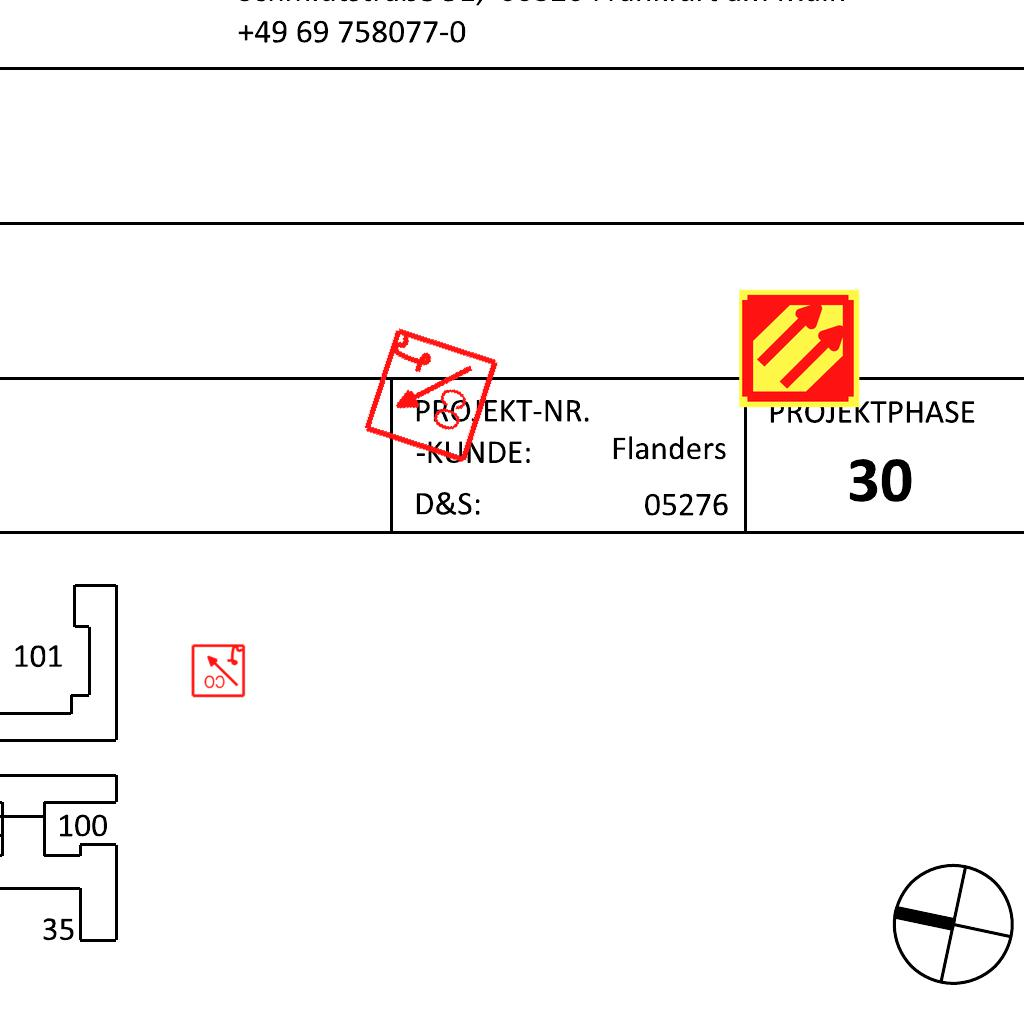ASR_Ansaugrauchmelder: (737, 286, 862, 411)
ROA_Rauchmelder_optisch_mit_Signalgeber_(Sockelsirene): (358, 324, 501, 467), (190, 642, 246, 698)
